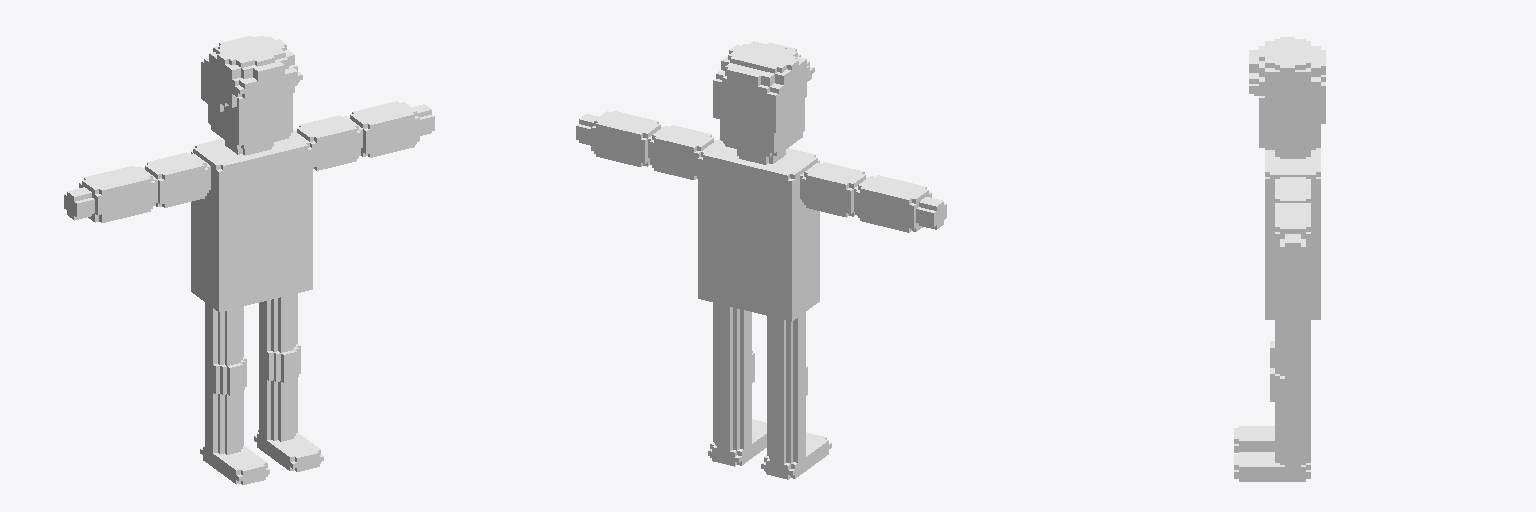
File: bruinsfan.obj
3 views of the same model, side by side, from view 1: azimuth 30°, elevation 25°; view 2: azimuth 150°, elevation 25°; view 3: azimuth 270°, elevation 25° (orthographic).
Bounding box in the file's own units: 80 × 87 × 18.